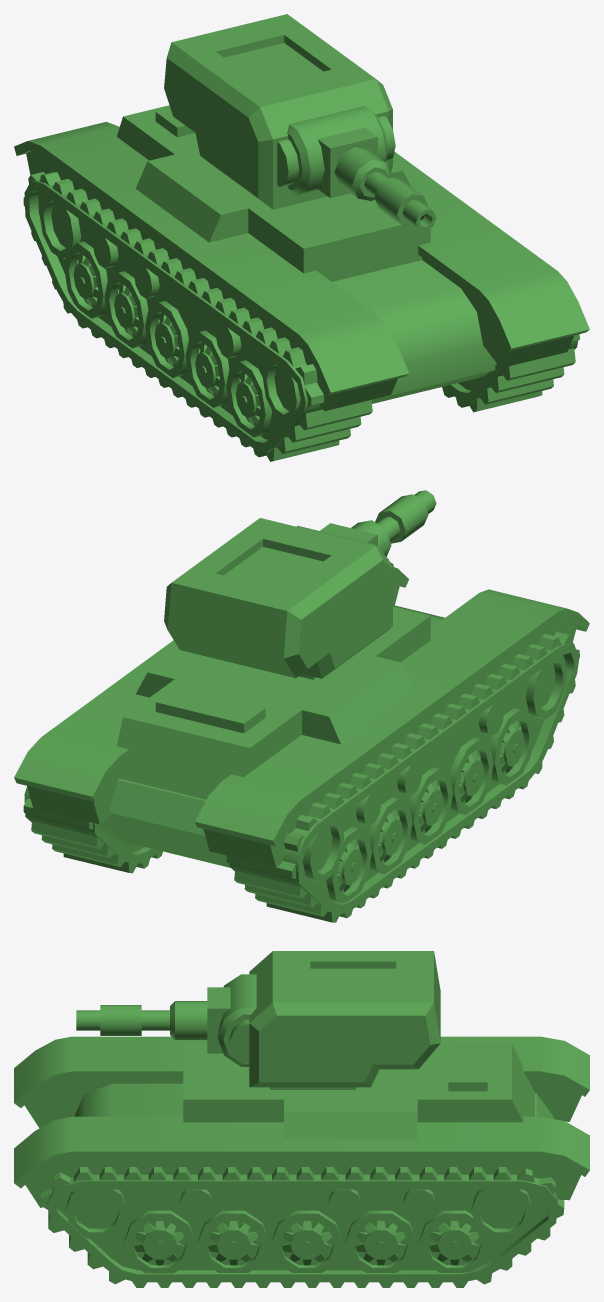
File: Tank_01.fbx
3 views of the same model, one above another, from view 1: azimuth 30°, elevation 25°; view 2: azimuth 150°, elevation 25°; view 3: azimuth 270°, elevation 25° (orthographic). The views are drawn at different scales.
Visible parts, largest first — view 1: Tank_01, Tank_01_Top, Tank_01_Cannon; view 2: Tank_01, Tank_01_Top, Tank_01_Cannon; view 3: Tank_01, Tank_01_Top, Tank_01_Cannon.
Part boxes in pixels (x1,y1,x2,y2): Tank_01: [14, 105, 589, 461]; Tank_01_Top: [164, 14, 392, 209]; Tank_01_Cannon: [277, 106, 436, 230]; Tank_01: [14, 567, 589, 922]; Tank_01_Top: [164, 518, 392, 678]; Tank_01_Cannon: [297, 490, 436, 590]; Tank_01: [14, 1036, 589, 1287]; Tank_01_Top: [249, 951, 440, 1087]; Tank_01_Cannon: [76, 974, 256, 1066].
Size of the model in its own units: 0.1925 by 0.186 by 0.3861.
